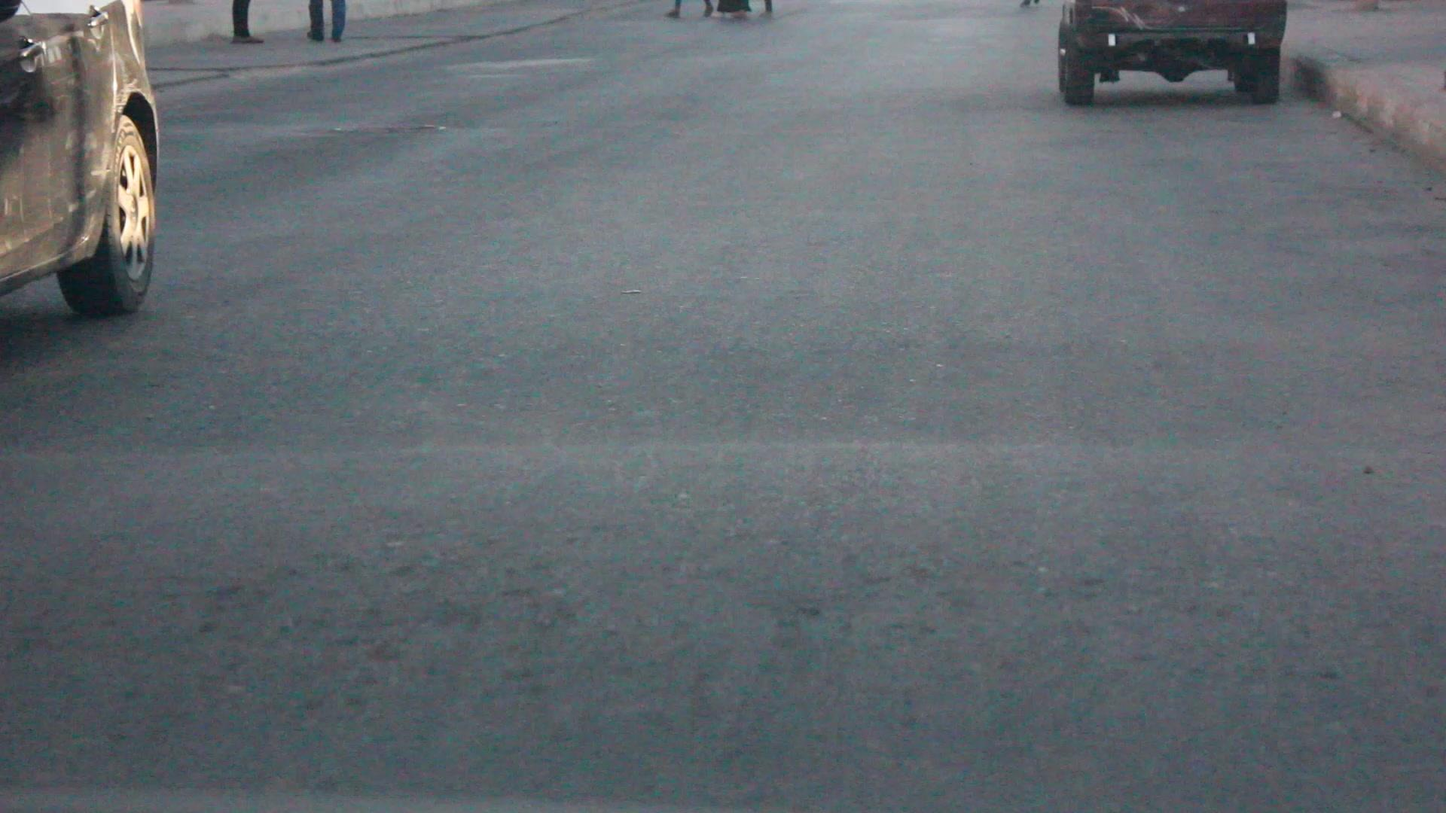Bump: (6, 431, 1446, 764)
